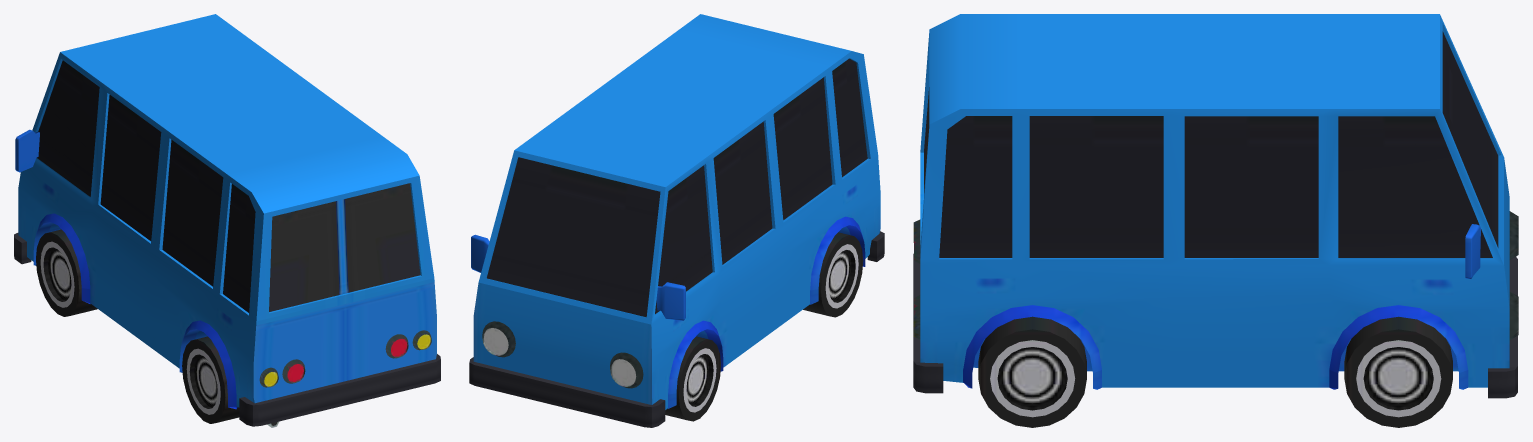
3 renders of one model, left to right at view 1: azimuth 30°, elevation 25°; view 2: azimuth 150°, elevation 25°; view 3: azimuth 270°, elevation 25°, orthographic. The views are drawn at different scales.
Parts seen in each view (by area): view 1: car_005_0; view 2: car_005_0; view 3: car_005_0.
Part boxes in pixels (x1,y1,x2,y2): car_005_0: (14,14,440,427); car_005_0: (469,14,884,427); car_005_0: (913,14,1518,427).
Size of the model in its own units: 0.7119 by 0.758 by 1.35.
1 material, 1 textured.
